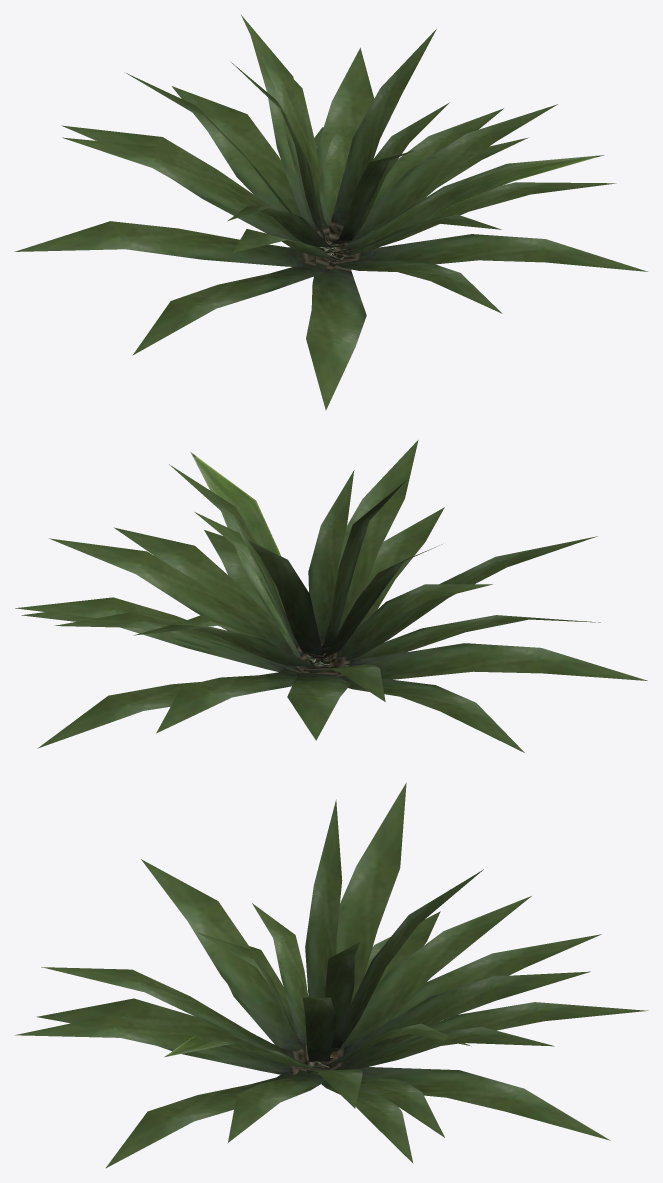
Rendered from Murphys_century_plant.fbx.
3 renders of one model, top to bottom at view 1: azimuth 30°, elevation 25°; view 2: azimuth 150°, elevation 25°; view 3: azimuth 270°, elevation 25°, orthographic. The views are drawn at different scales.
Parts seen in each view (by area): view 1: Murphys_Century_Plant; view 2: Murphys_Century_Plant; view 3: Murphys_Century_Plant.
Boxes of the visible parts, x1,y1,x2,y2 form: Murphys_Century_Plant: (14, 15, 647, 410); Murphys_Century_Plant: (15, 440, 647, 752); Murphys_Century_Plant: (15, 782, 648, 1168).
Size of the model in its own units: 113 by 50.17 by 119.
